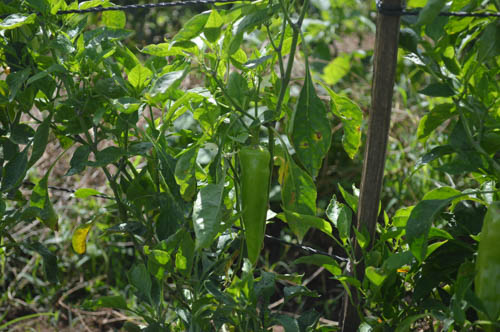ChiliPepper: (241, 147, 273, 264)
